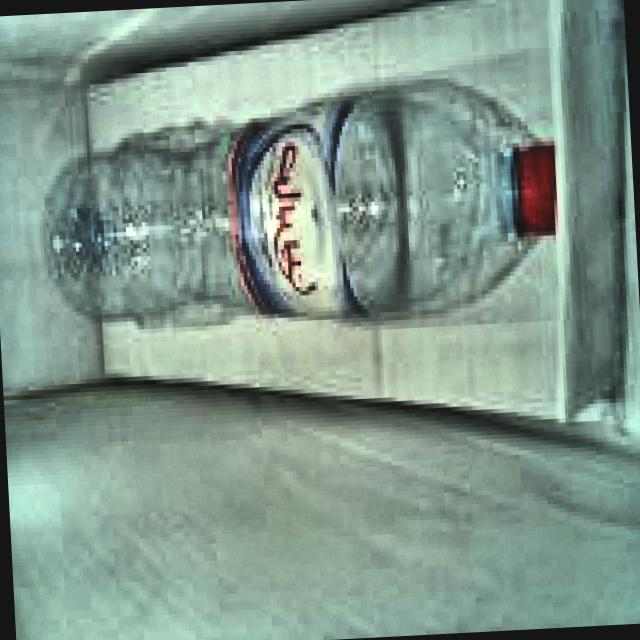plastic bottle: (51, 91, 559, 315)
